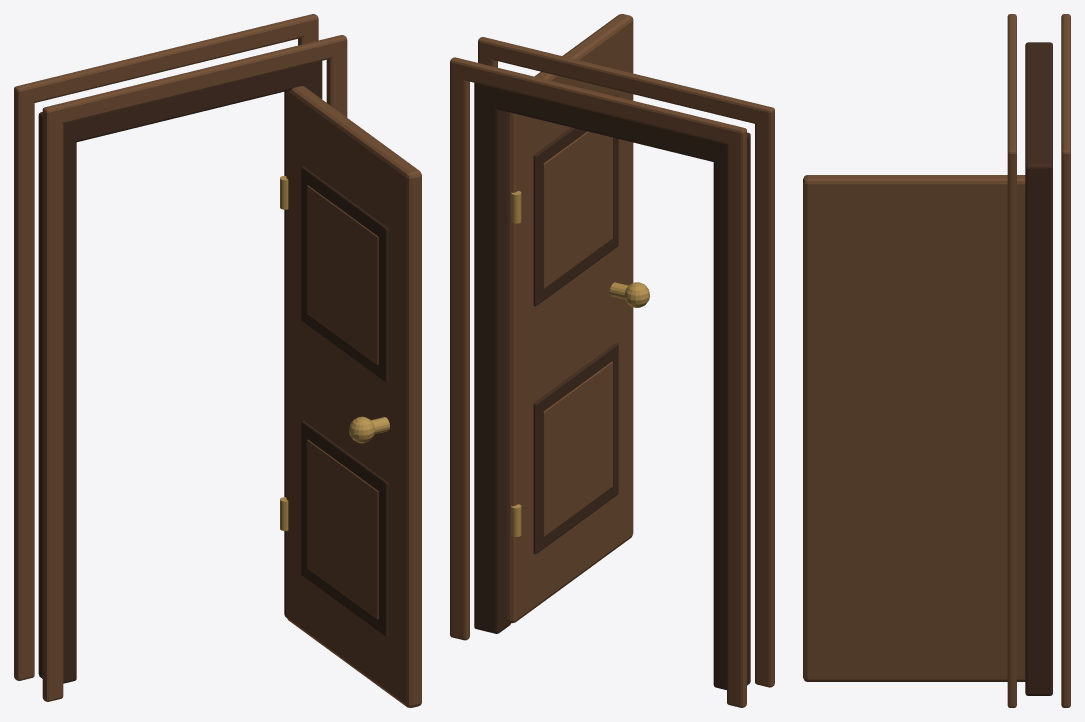
The model's file is interior_open_door_right.glb.
The picture shows the model from 3 angles, left to right: view 1: azimuth 30°, elevation 25°; view 2: azimuth 150°, elevation 25°; view 3: azimuth 270°, elevation 25°; orthographic projection. The views are drawn at different scales.
Parts seen in each view (by area): view 1: interior_open_door_right; view 2: interior_open_door_right; view 3: interior_open_door_right.
Part boxes in pixels (x1,y1,x2,y2): interior_open_door_right: [14, 14, 421, 707]; interior_open_door_right: [450, 14, 774, 707]; interior_open_door_right: [803, 14, 1070, 707].
Size of the model in its own units: 1.18 by 2.22 by 0.964.
